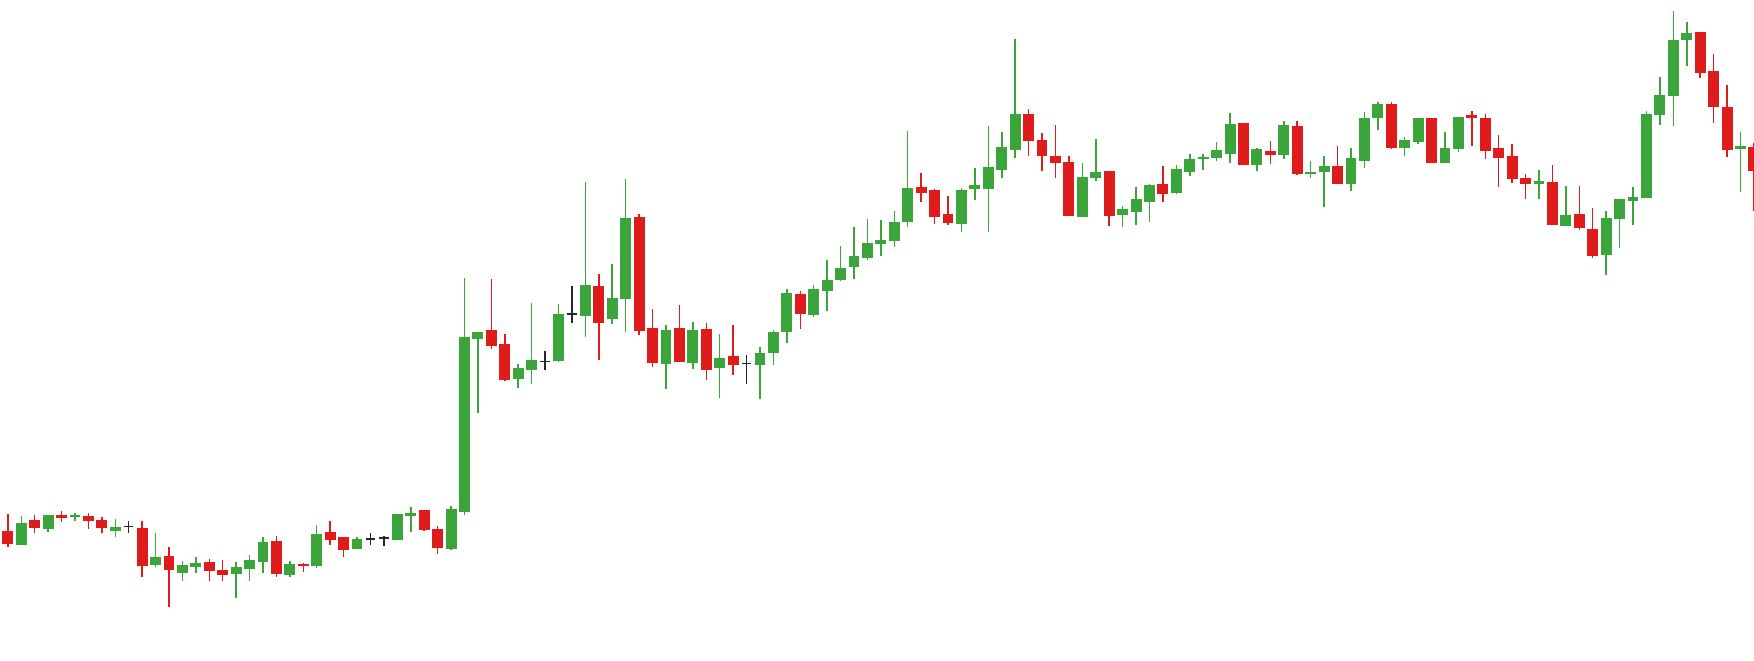sell: (900, 37, 1037, 186)
